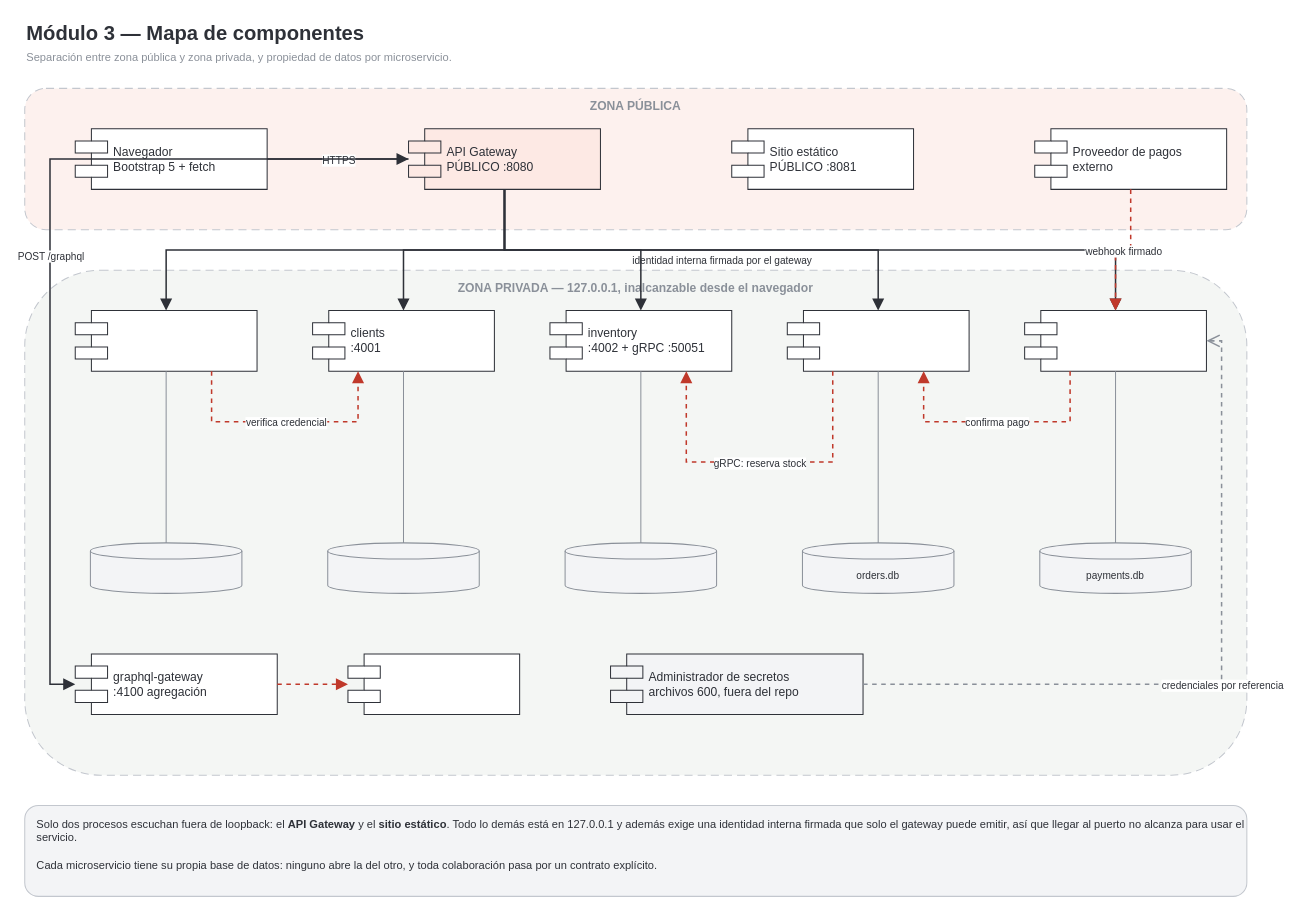
The diagram is 1301 pixels wide and 914 high, and some of its shapes have lost their labels. Here are the shapes that lost their labels. From the top down, the centre of each, then its label:
point 165,340: auth-service :4000
point 877,340: orders :4003
point 1115,340: payments :4004
point 165,567: auth-service.db
point 403,567: clients.db
point 640,567: inventory.db
point 433,684: analytics :4005
